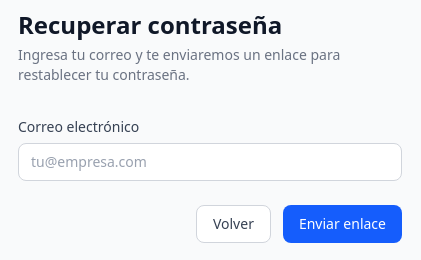
Test case: ForgotPasswordPage › muestra el botón "Cargando..." mientras la petición está en vuelo
Type "test@nn.com" into the field labelled "Correo electrónico".
click(210, 162); type("test@nn.com")  # box [18,143,402,181]
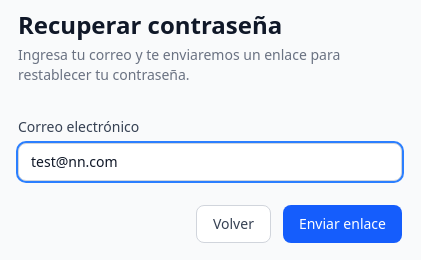
Click the button "Enviar enlace".
click(342, 224)  # box [283,205,402,243]
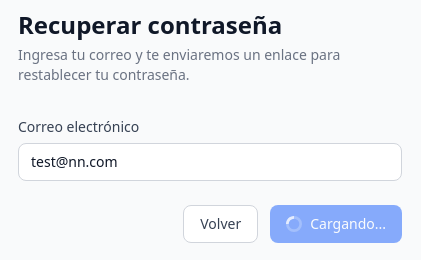
Expected: the text "Cargando..." is shown, [310,214,386,234]
